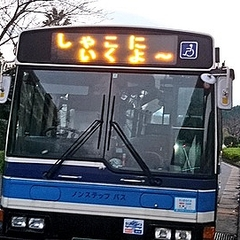destination: (51, 32, 177, 65)
